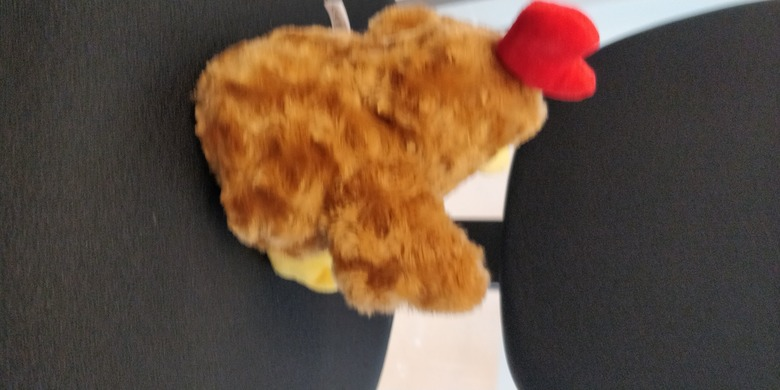fakeChicken: (190, 1, 601, 318)
